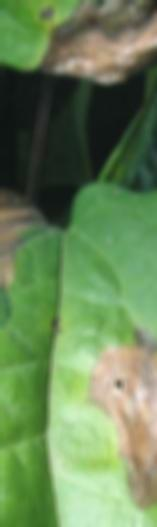Tomato leaf bacterial spot: (0, 169, 157, 527)
